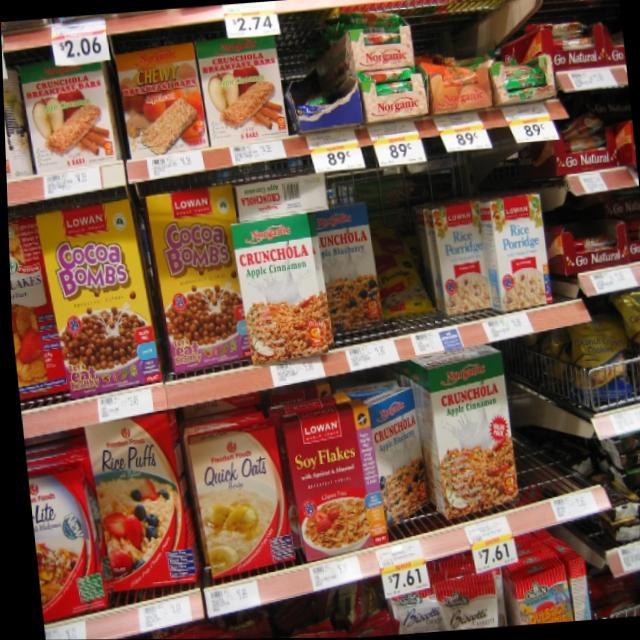q271: (22, 449, 107, 613)
